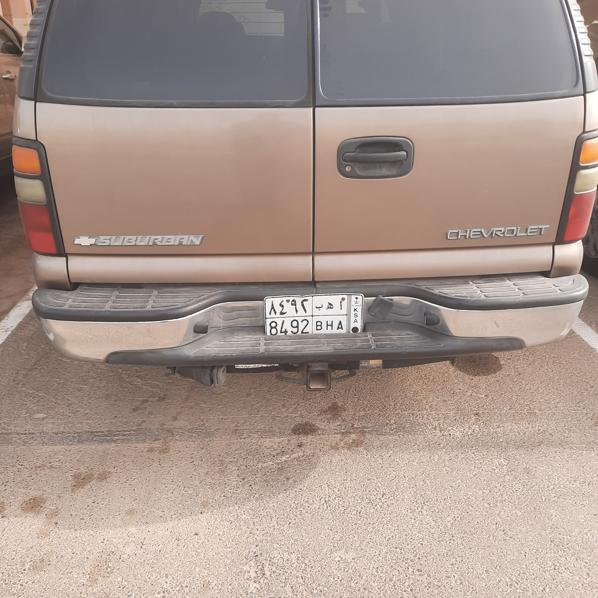numberplate: (265, 293, 364, 337)
